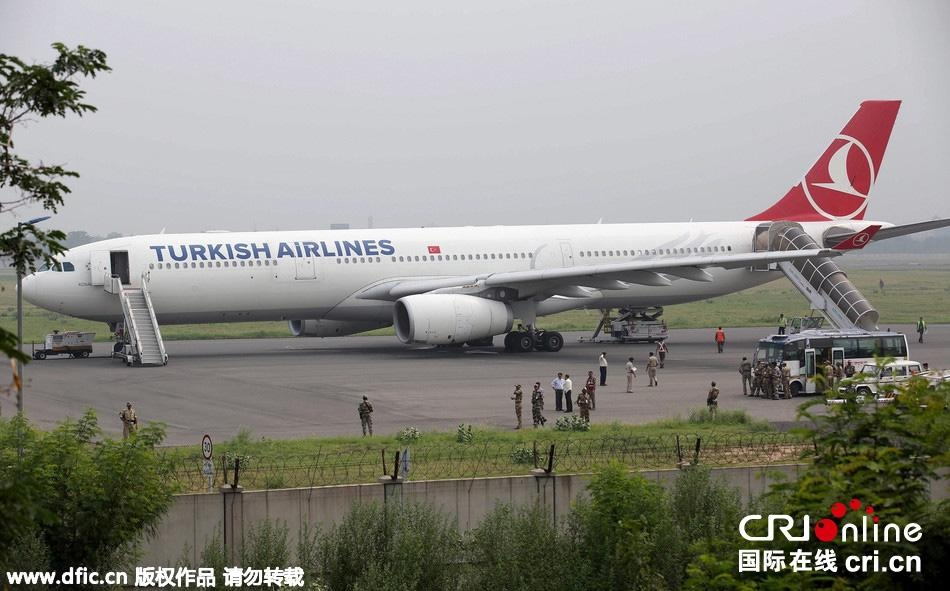airplane: (16, 100, 948, 367)
